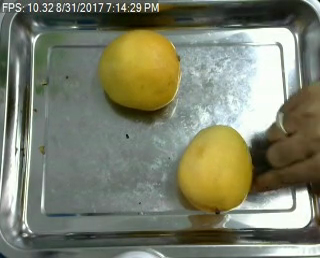Mango: (177, 122, 254, 216), (96, 26, 181, 110)
